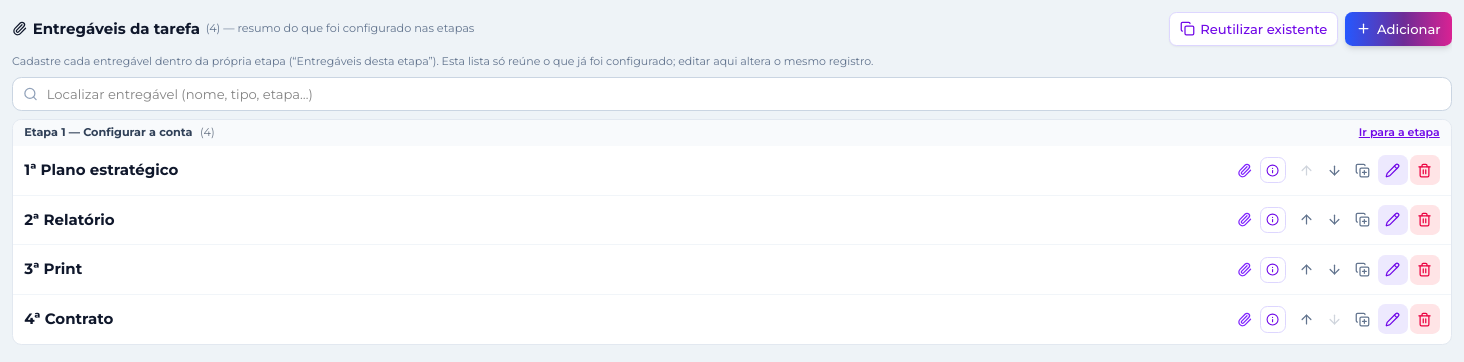
it: Entregáveis da tarefa · resumo derivado das etapas › busca só aparece com mais de 3 entregáveis e filtra por nome sem acento
Type "relatorio" into the search field with test id "deliverable-search" at (732,94), box top-left (12, 77), bottom-right (1452, 111)
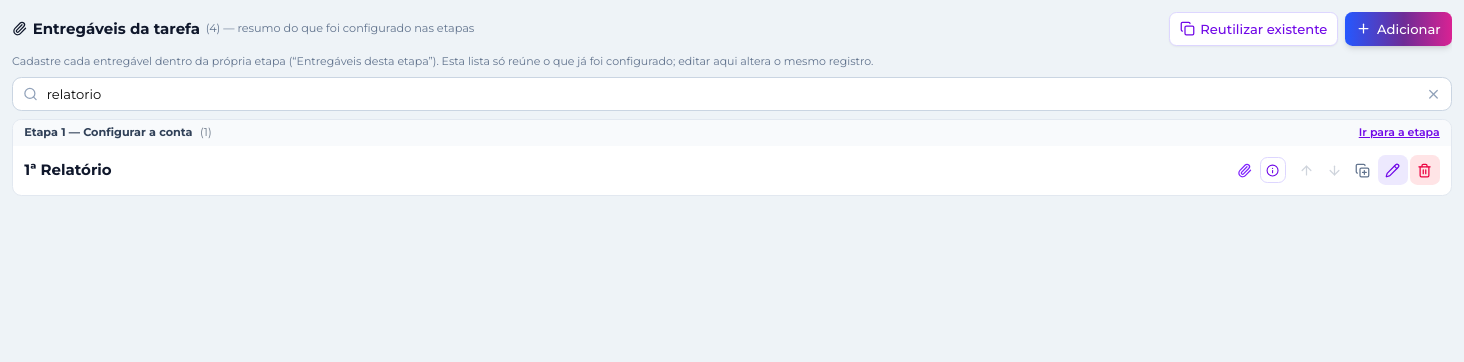
Expected: the number of list items with test id "deliverable-row" is 1, top-left (13, 146), bottom-right (1451, 195)
Replace the text in the search field with test id "deliverable-search" with "zzz" at (732,94), box top-left (12, 77), bottom-right (1452, 111)
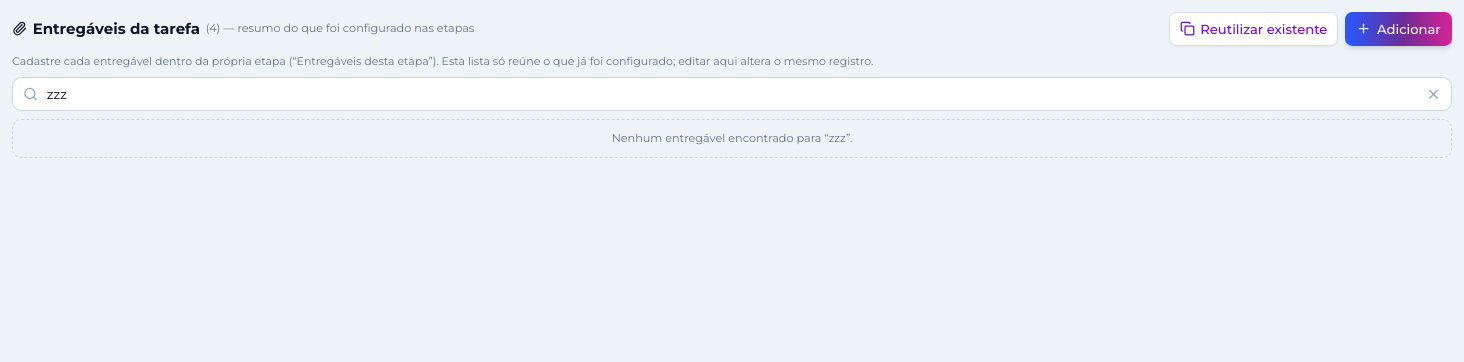
Expected: the text "Nenhum entregável encontrado para “zzz”." is shown, top-left (12, 118), bottom-right (1452, 158)
